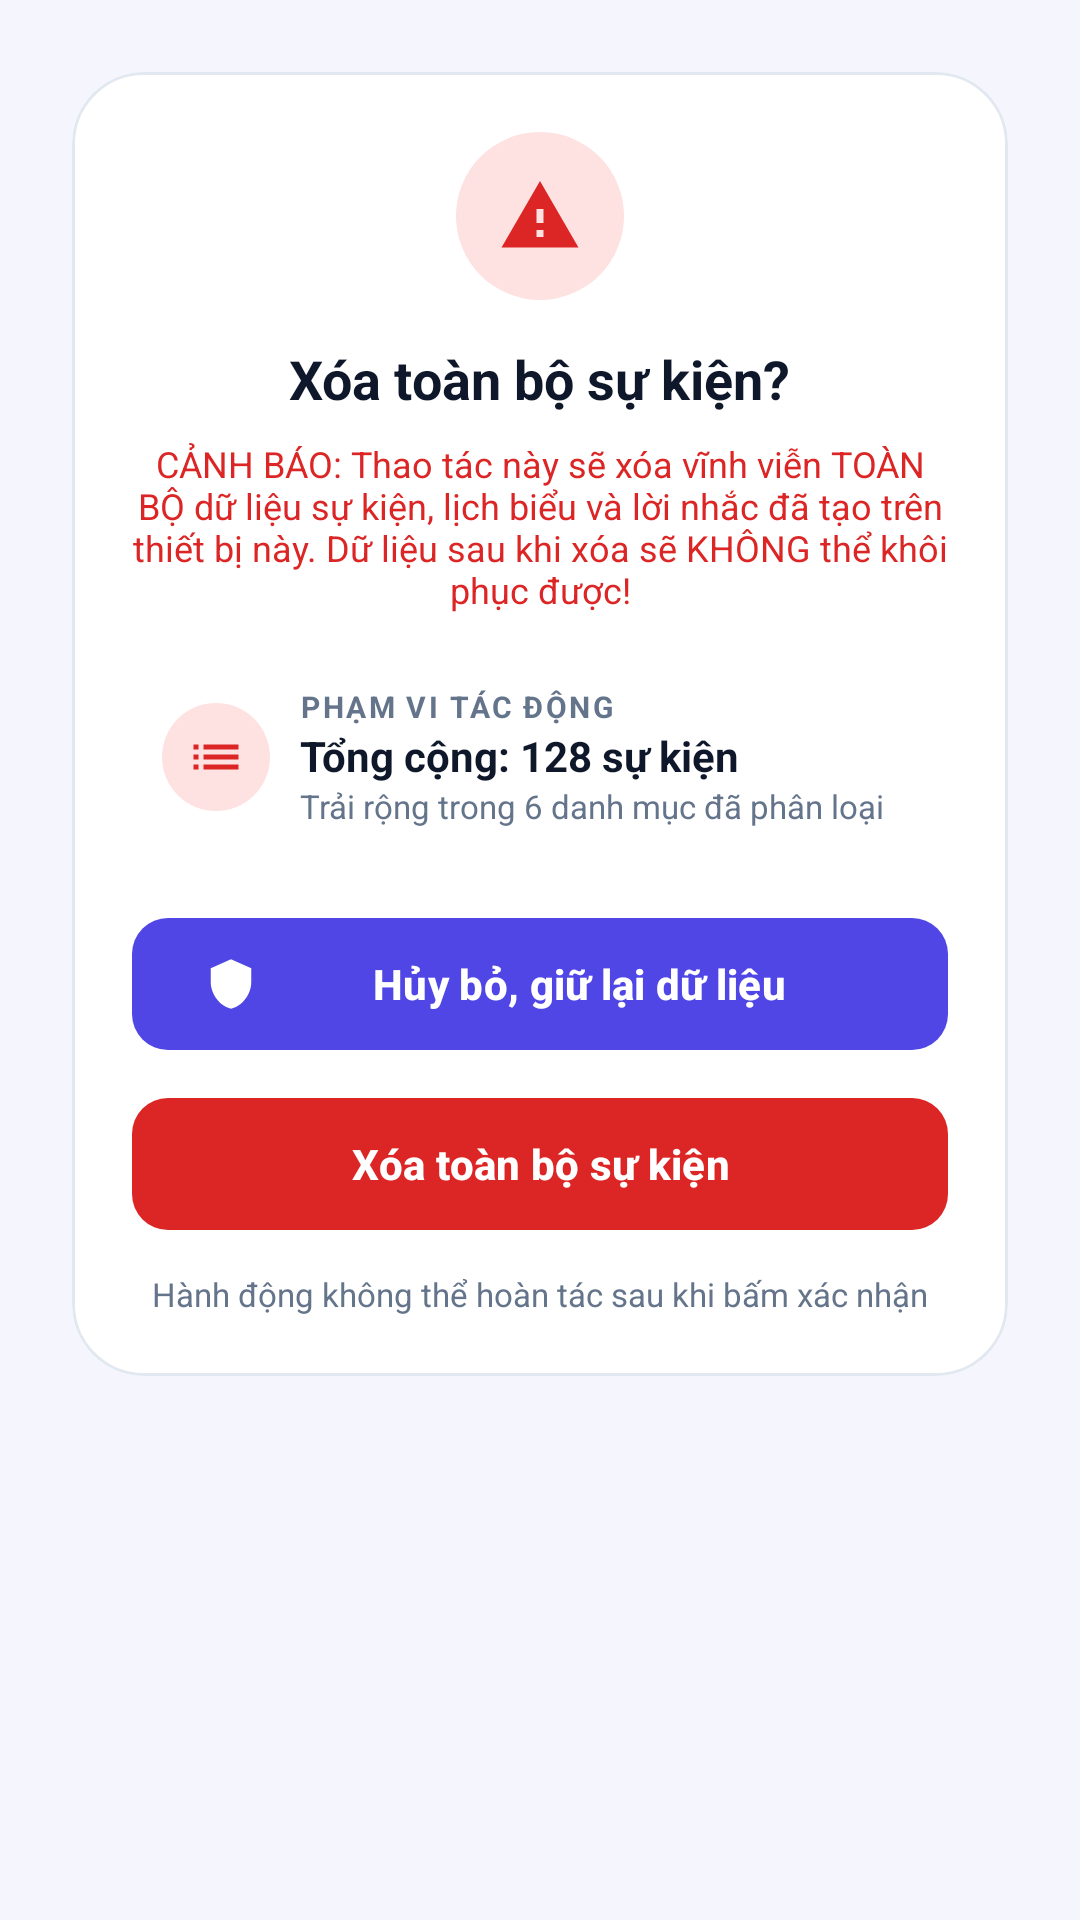

Icon bounding boxes for this 1080px×1920px phone screenshot, format [left=x1, top=y1, right=x2, bottom=y2]:
warning: [left=456, top=132, right=624, bottom=300]
